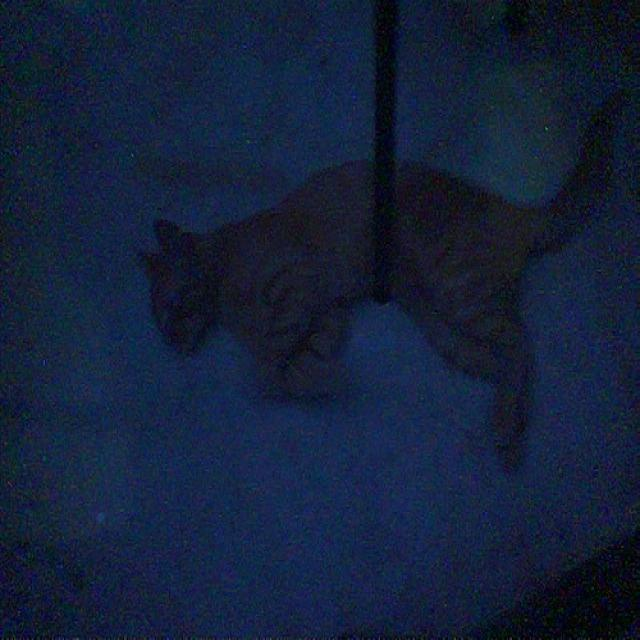Cat: (116, 82, 640, 466)
